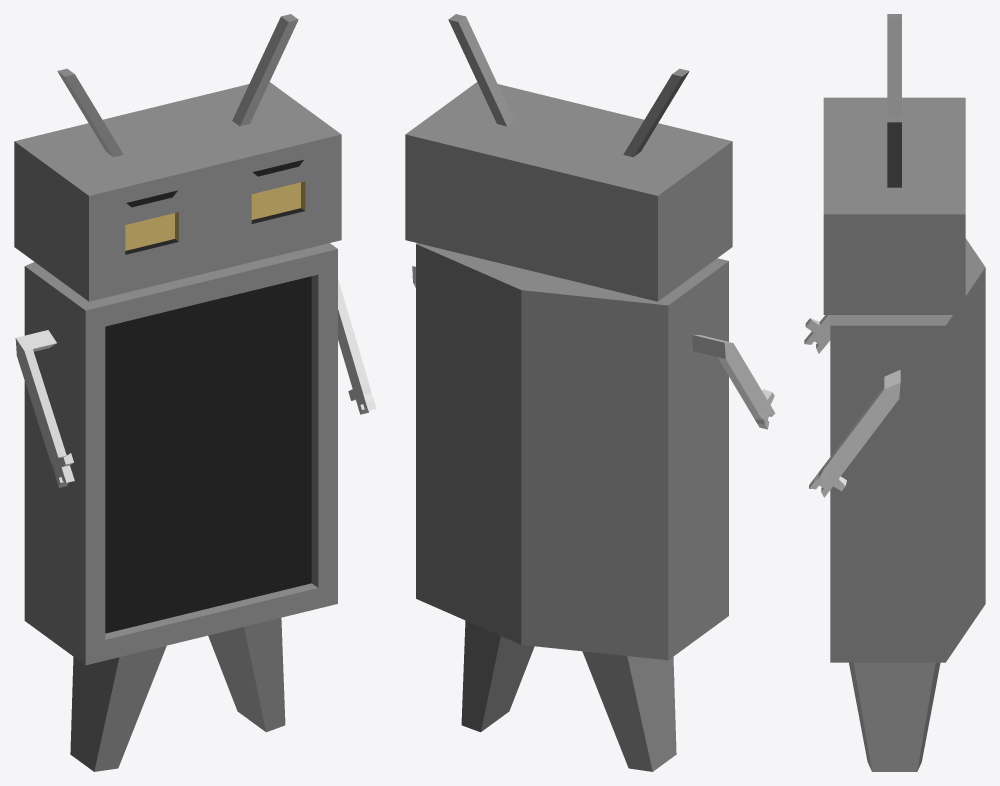
The model's file is Robot03.fbx.
The picture shows the model from 3 angles, left to right: view 1: azimuth 30°, elevation 25°; view 2: azimuth 150°, elevation 25°; view 3: azimuth 270°, elevation 25°; orthographic projection. The views are drawn at different scales.
Parts seen in each view (by area): view 1: Robot03_Body, Robot03_Head, Robot03_R_Arm, Robot03_L_Arm; view 2: Robot03_Body, Robot03_Head, Robot03_R_Arm; view 3: Robot03_Body, Robot03_Head, Robot03_L_Arm, Robot03_R_Arm.
Boxes of the visible parts, x1,y1,x2,y2 form: Robot03_Body: (24, 243, 337, 771); Robot03_Head: (14, 14, 341, 301); Robot03_R_Arm: (15, 330, 74, 487); Robot03_L_Arm: (338, 279, 376, 414); Robot03_Body: (416, 243, 728, 771); Robot03_Head: (405, 14, 732, 301); Robot03_R_Arm: (692, 334, 775, 429); Robot03_Body: (830, 238, 985, 771); Robot03_Head: (823, 14, 965, 314); Robot03_L_Arm: (809, 370, 900, 497); Robot03_R_Arm: (804, 315, 830, 353).
Bounding box in the file's own units: 45.02 × 95.44 × 23.76.
